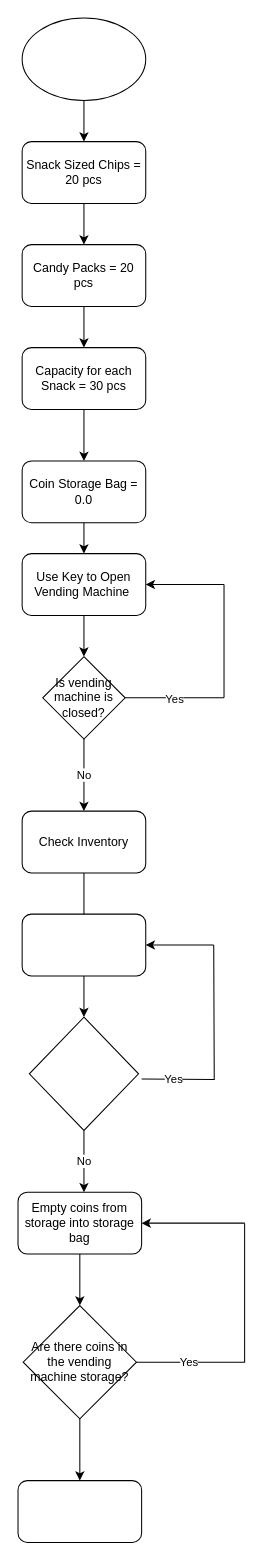
The diagram is 271 pixels wide and 1560 high, and some of its shapes have lost their labels. Here are the shapes that lost their labels. From the top down, the centre of each, then its label:
At (x=83, y=58): "Vending Machine Owner Operation".
At (x=83, y=944): "Refill stock from inventory".
At (x=83, y=1073): "Are each snacks less than the 30 pcs capacity?".
At (x=79, y=1511): "Close Vending Machine and Lock It".
